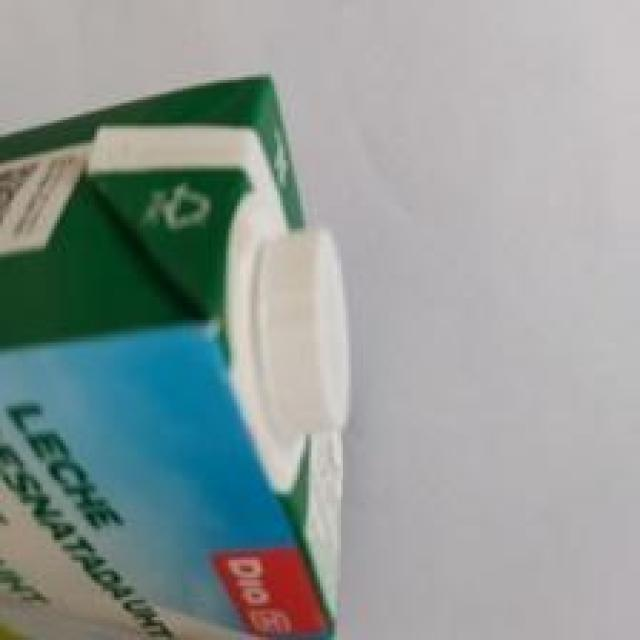PaperCardboard: (0, 71, 360, 639)
